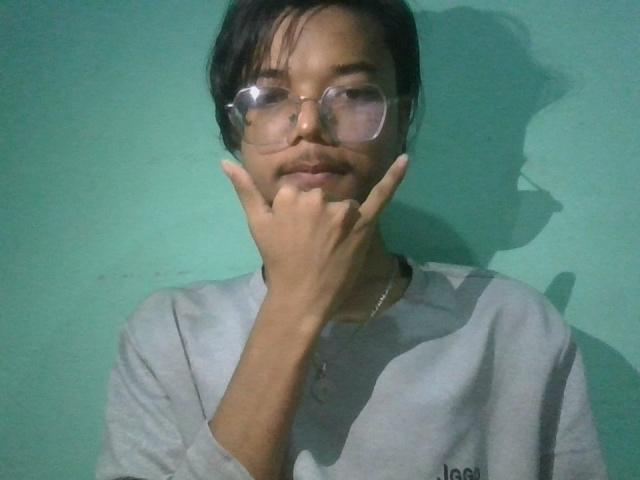Wrong: (199, 122, 440, 335)
